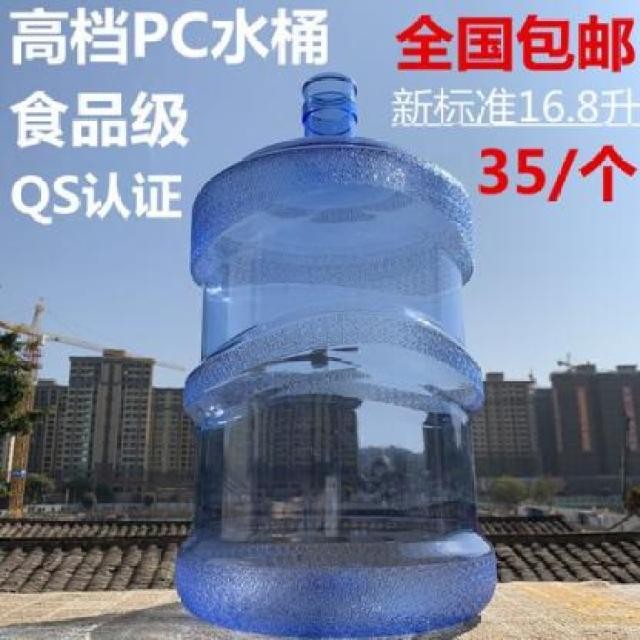coolerbottle: (168, 68, 504, 639)
